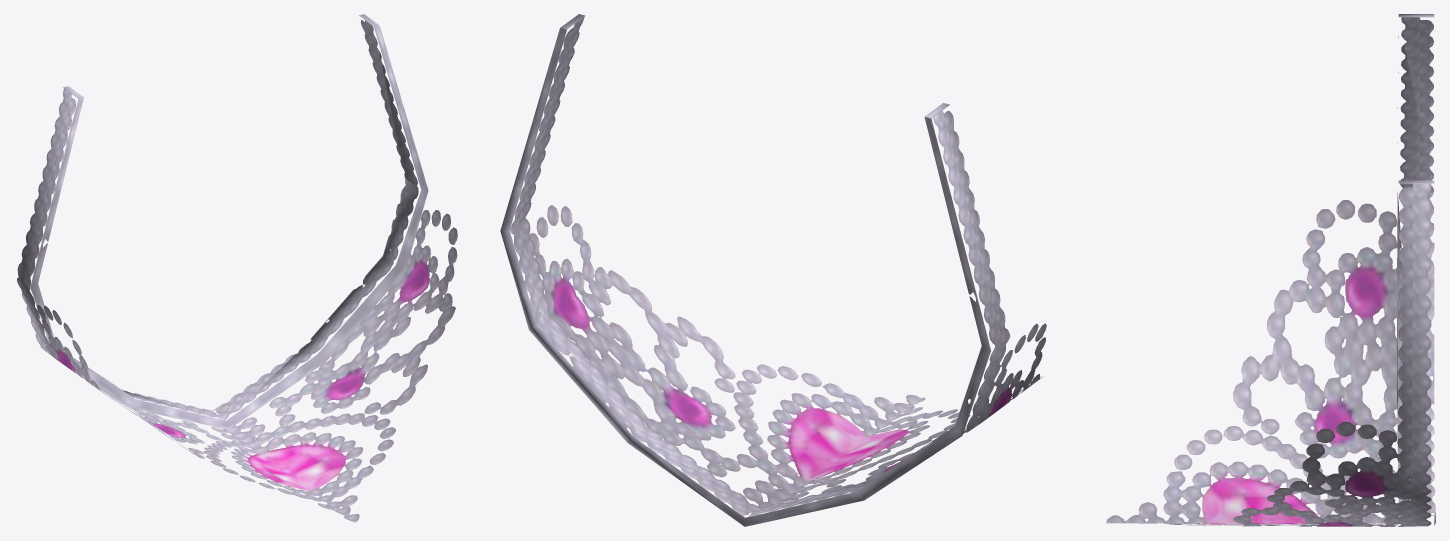
Rendered from tt_m_chr_avt_acc_hat_tiara.glb.
3 views of the same model, side by side, from view 1: azimuth 30°, elevation 25°; view 2: azimuth 150°, elevation 25°; view 3: azimuth 270°, elevation 25° (orthographic). The views are drawn at different scales.
Visible parts, largest first — view 1: tiara1; view 2: tiara1; view 3: tiara1.
Part boxes in pixels (<box>): tiara1: <box>17,14,457,522</box>; tiara1: <box>500,14,1046,526</box>; tiara1: <box>1106,14,1435,526</box>.
Bounding box in the file's own units: 1.9 × 1.68 × 1.23.
1 material, 1 textured.
